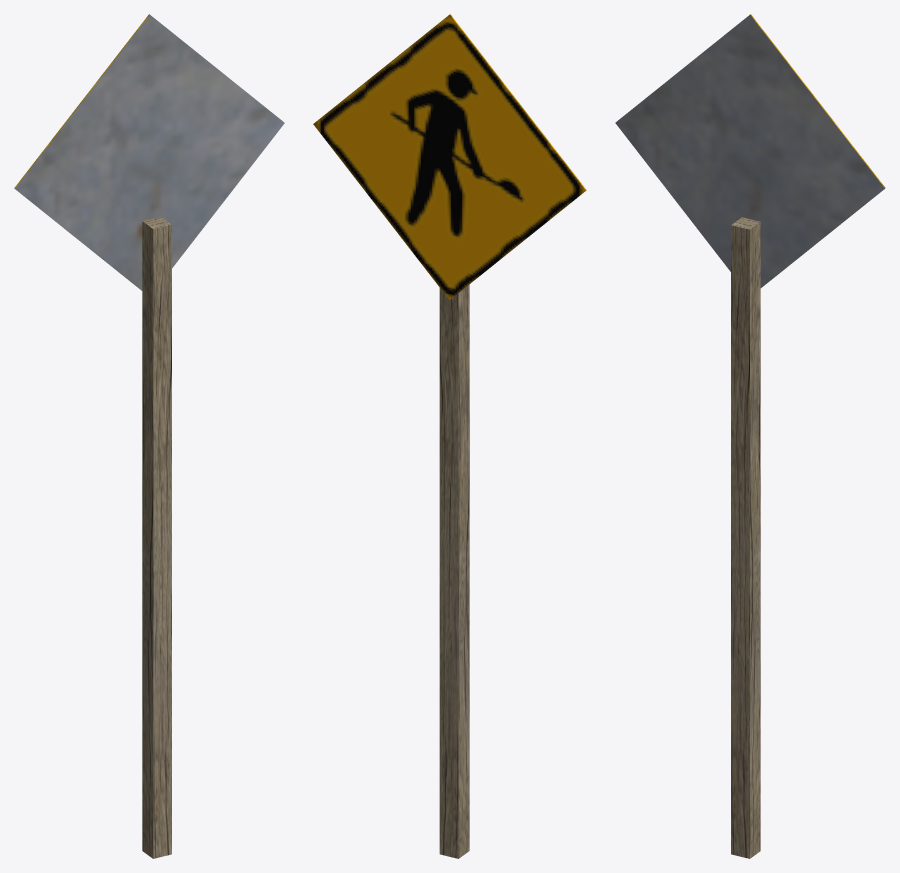
The model's file is boardWorkSmall.fbx.
3 renders of one model, left to right at view 1: azimuth 30°, elevation 25°; view 2: azimuth 150°, elevation 25°; view 3: azimuth 330°, elevation 25°, orthographic.
Parts seen in each view (by area): view 1: board; view 2: board; view 3: board.
Part boxes in pixels (<box>): board: <box>14,14,284,858</box>; board: <box>313,14,586,858</box>; board: <box>615,14,885,858</box>.
Bounding box in the file's own units: 0.8206 × 2.42 × 0.0626.
